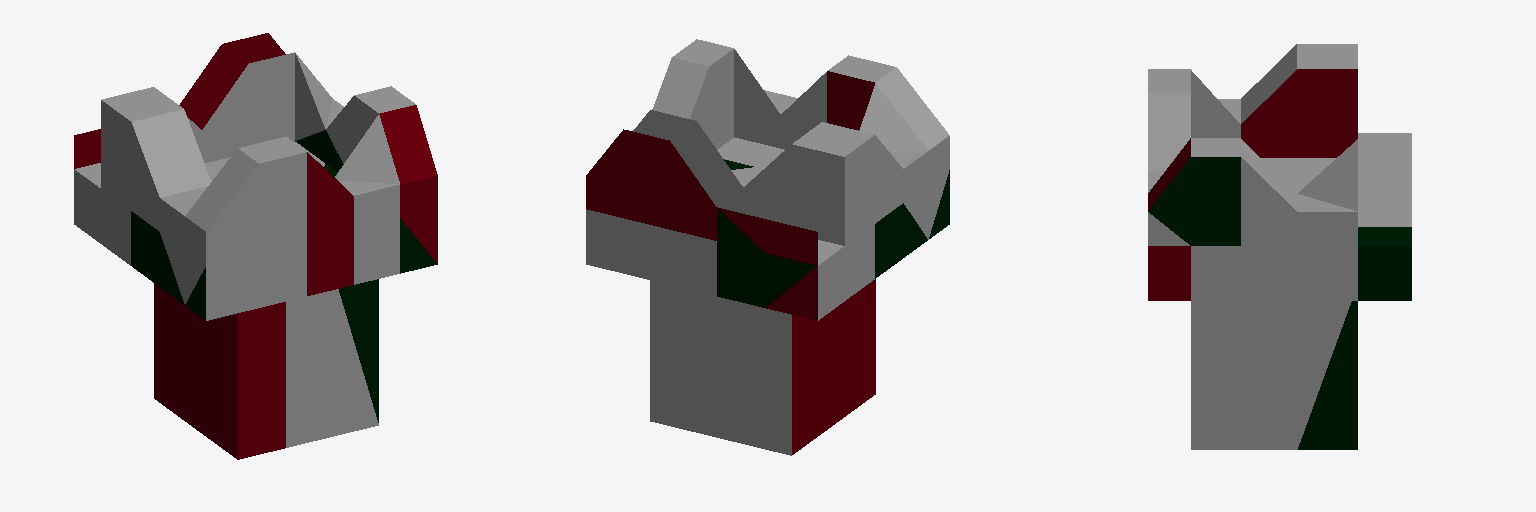
The model's file is maison3.obj.
3 renders of one model, left to right at view 1: azimuth 30°, elevation 25°; view 2: azimuth 150°, elevation 25°; view 3: azimuth 270°, elevation 25°, orthographic.
Parts seen in each view (by area): view 1: Cube; view 2: Cube; view 3: Cube.
Boxes of the visible parts, box(x1,y1,x2,y2) form: Cube: box(74, 33, 437, 459); Cube: box(586, 39, 949, 455); Cube: box(1148, 44, 1411, 449).
Size of the model in its own units: 8.76 by 11.27 by 8.65.